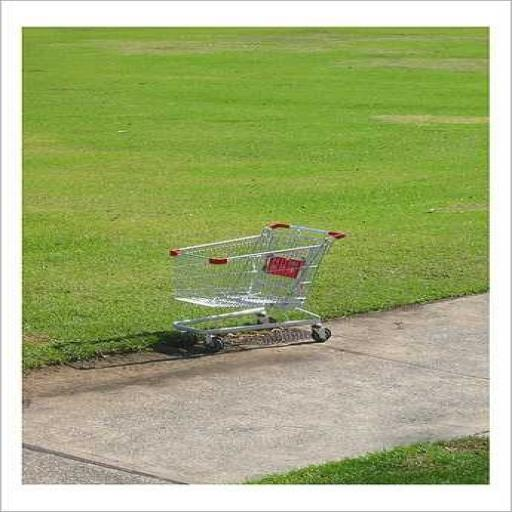shopping_cart: (168, 222, 346, 354)
